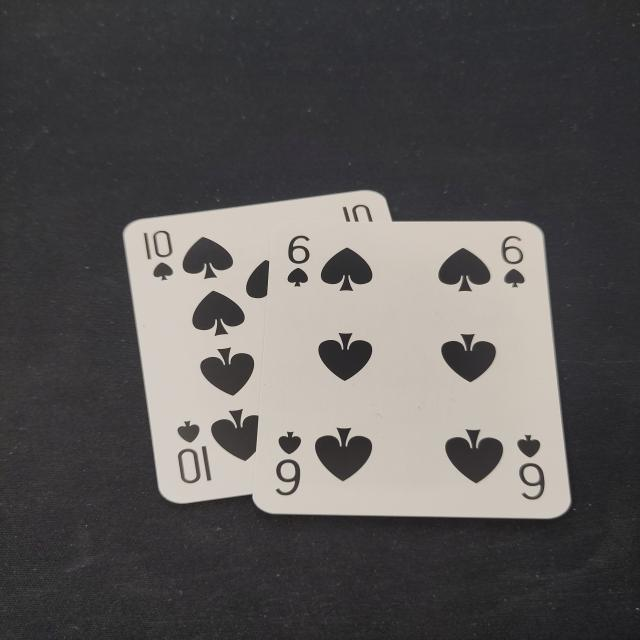10s: (173, 415, 220, 490), (137, 226, 178, 288)
6s: (511, 429, 549, 507), (271, 427, 308, 499), (282, 229, 314, 294), (496, 232, 529, 295)
